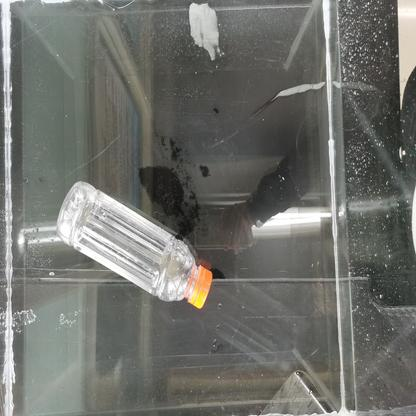plastic bottle: (56, 181, 213, 309)
